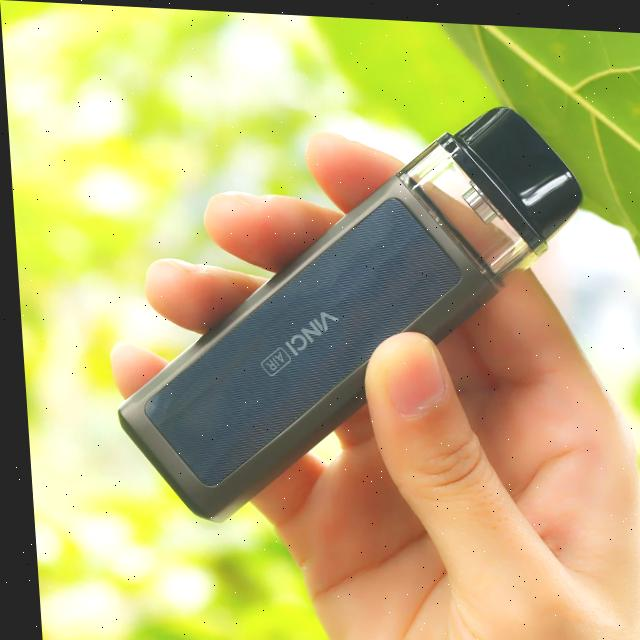vape: (92, 85, 599, 538)
